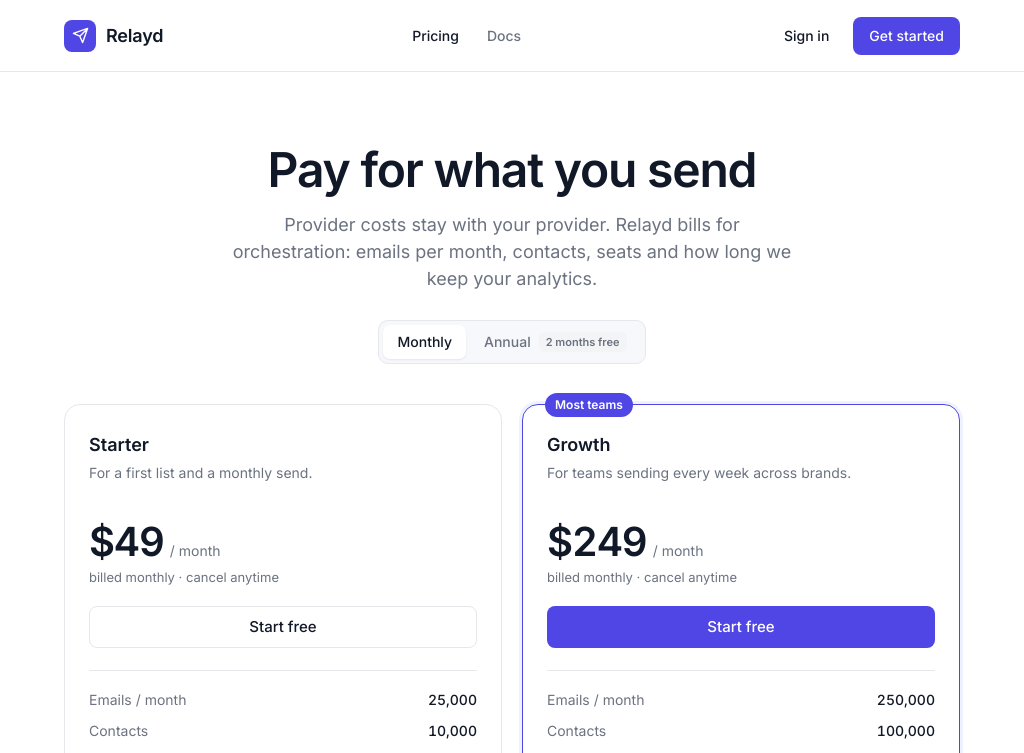
Test: A2 pricing › switches to the annual prices and back
The image size is (1024, 753).
Click the button "Annual 2 months free": (555, 342) 470,325 -> 640,359
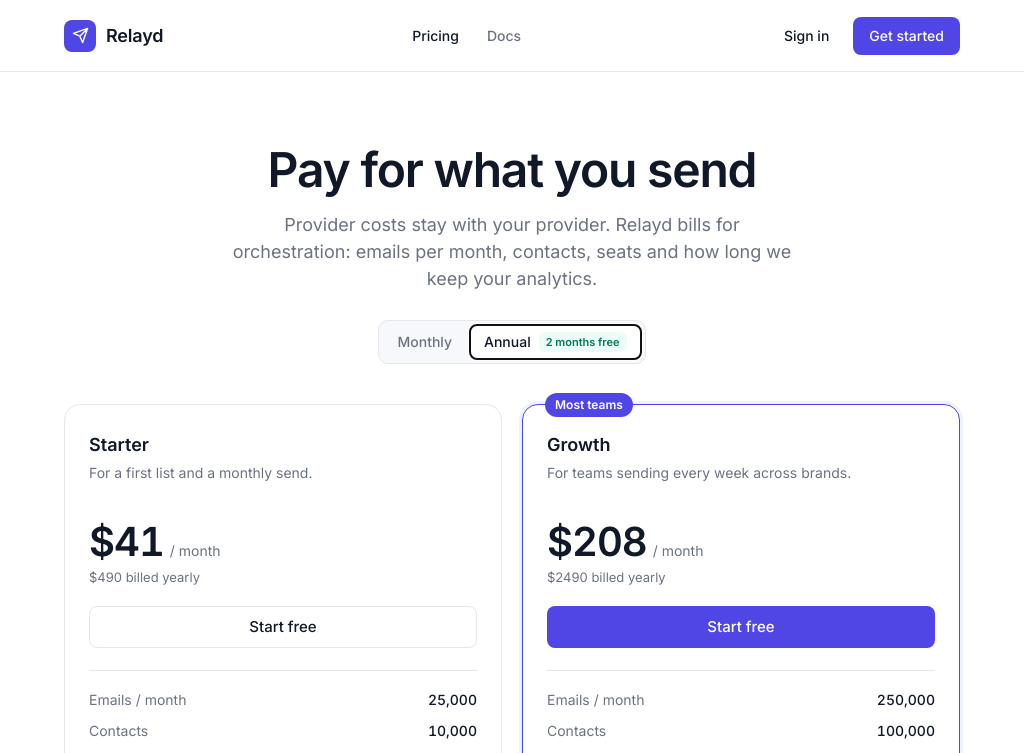
Check: the text "$41" is shown, box 89,522 -> 164,562
Check: the text "$208" is shown, box 547,522 -> 647,562
Check: the text "$490 billed yearly" is shown, box 89,569 -> 200,585
Click the button "Monthly": (425, 342) 384,325 -> 466,359
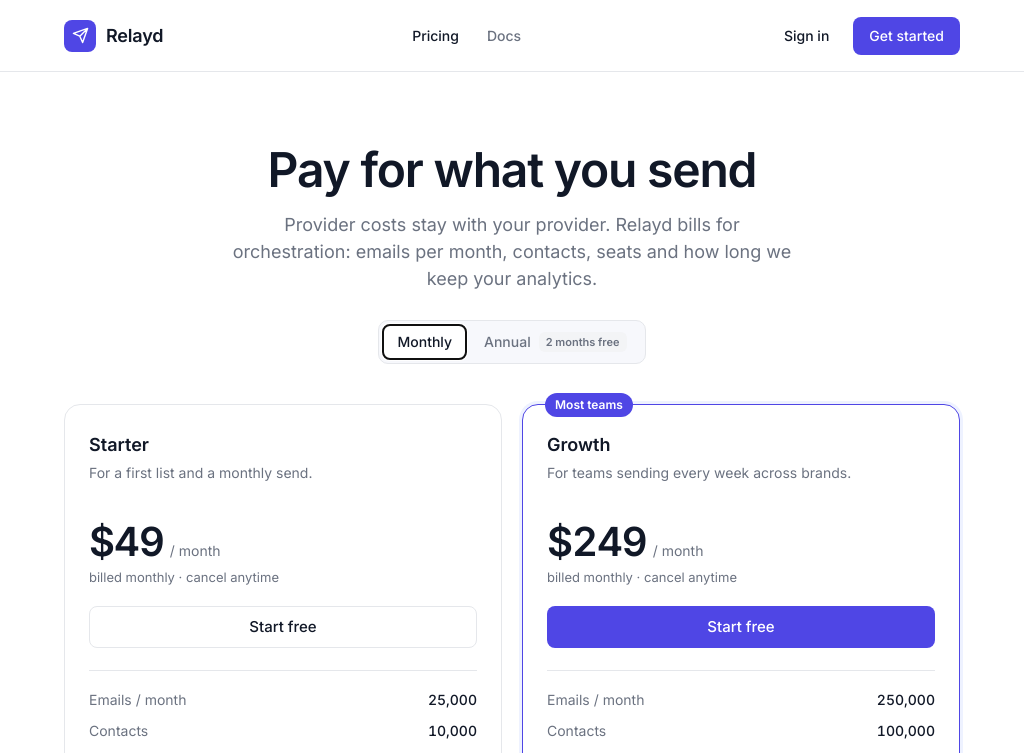
Check: the text "$249" is shown, box 547,522 -> 647,562
